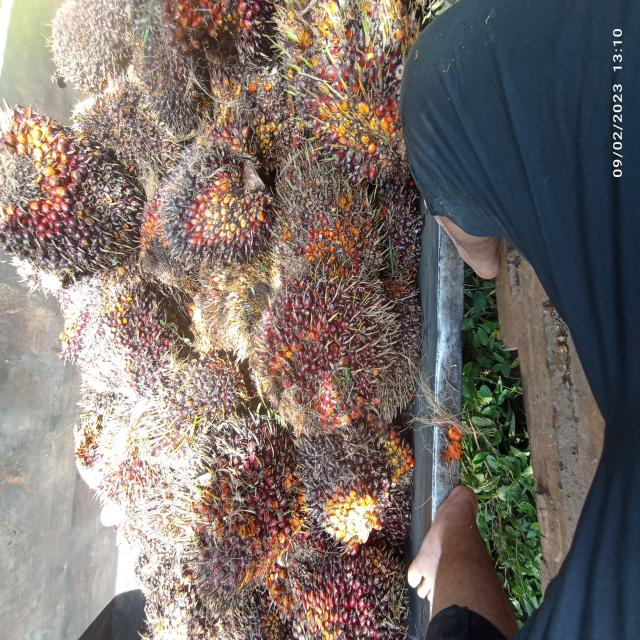fraksi 00: (2, 97, 145, 286), (151, 140, 283, 275), (278, 439, 404, 556), (284, 531, 414, 640)
fraksi 3: (240, 254, 410, 441), (267, 167, 393, 284)
